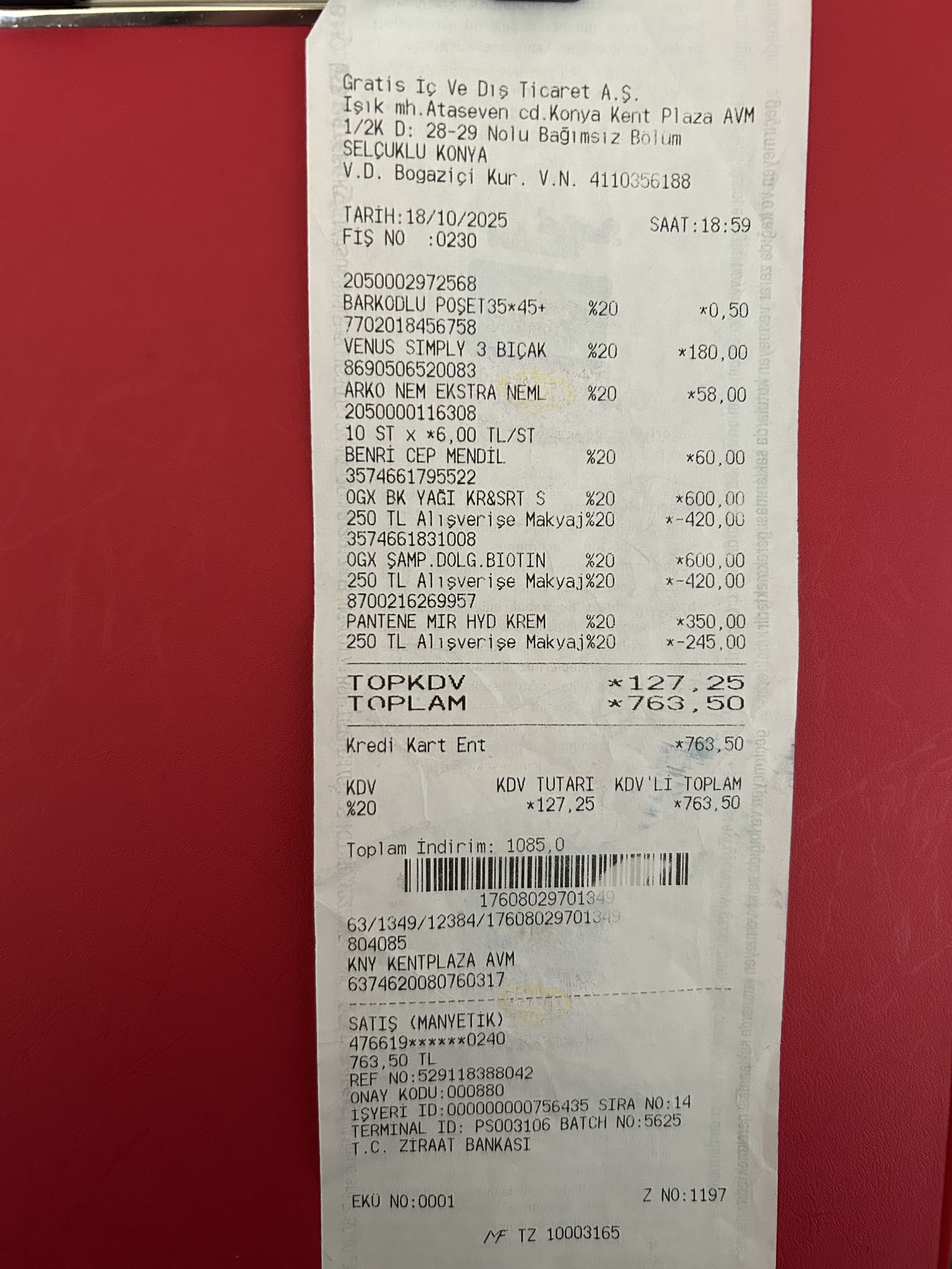date: (622, 692, 752, 720)
price: (402, 203, 510, 229)
workplace: (323, 64, 771, 166)
